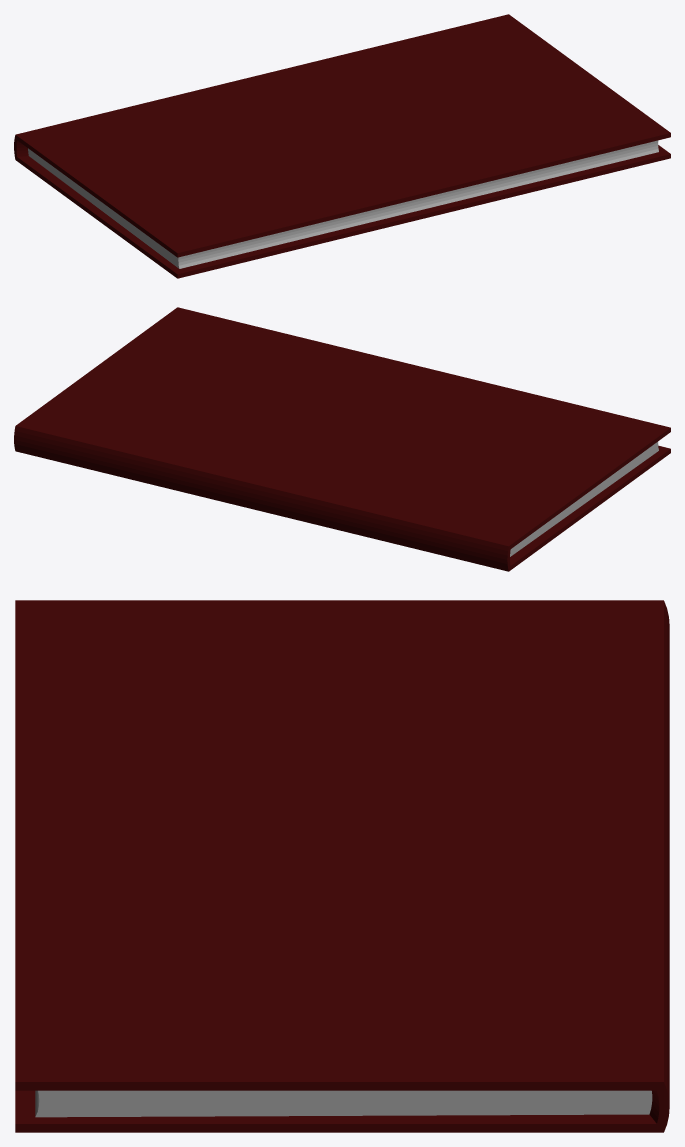
File: Book3.fbx
3 renders of one model, top to bottom at view 1: azimuth 30°, elevation 25°; view 2: azimuth 150°, elevation 25°; view 3: azimuth 270°, elevation 25°, orthographic. The views are drawn at different scales.
Visible parts, largest first — view 1: Prop_Book_02; view 2: Prop_Book_02; view 3: Prop_Book_02.
Part boxes in pixels (x1=…): Prop_Book_02: x1=14, y1=14, x2=670, y2=278; Prop_Book_02: x1=14, y1=307, x2=670, y2=571; Prop_Book_02: x1=15, y1=600, x2=669, y2=1132.
Size of the model in its own units: 39.96 by 1.97 by 22.95.
Materials: 1 (1 with a texture image).
